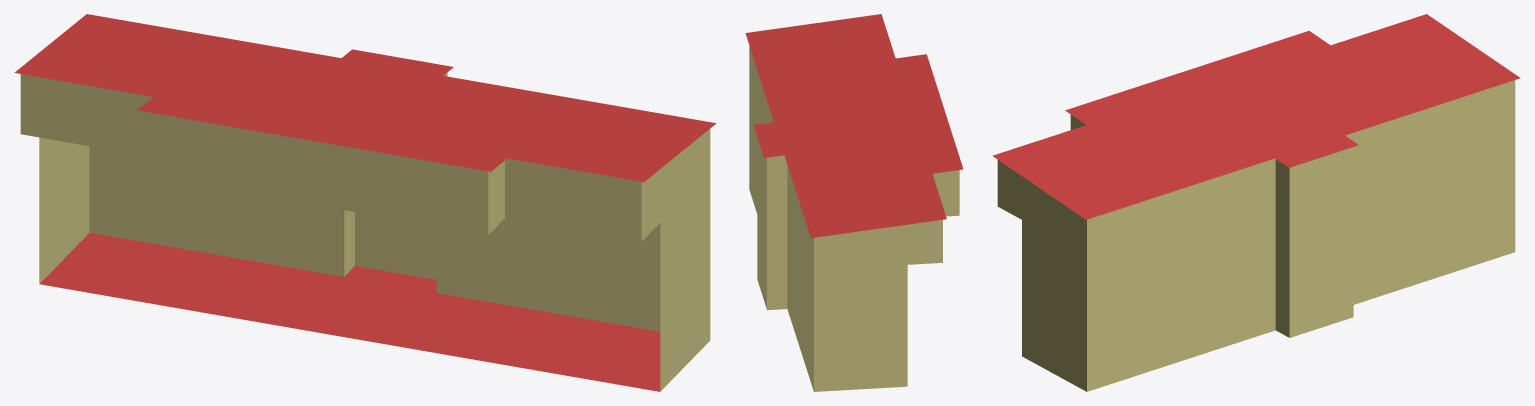
The picture shows the model from 3 angles, left to right: view 1: azimuth 30°, elevation 25°; view 2: azimuth 150°, elevation 25°; view 3: azimuth 270°, elevation 25°; orthographic projection. The views are drawn at different scales.
Size of the model in its own units: 28.92 by 33.42 by 13.24.
